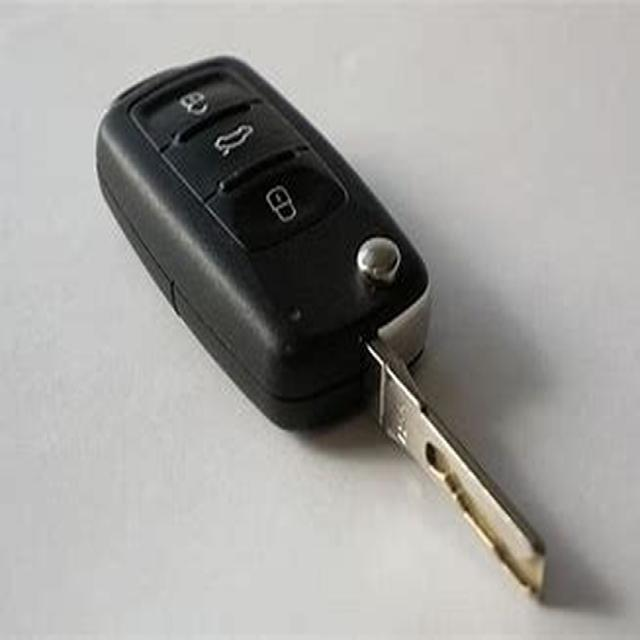key: (123, 40, 558, 604)
